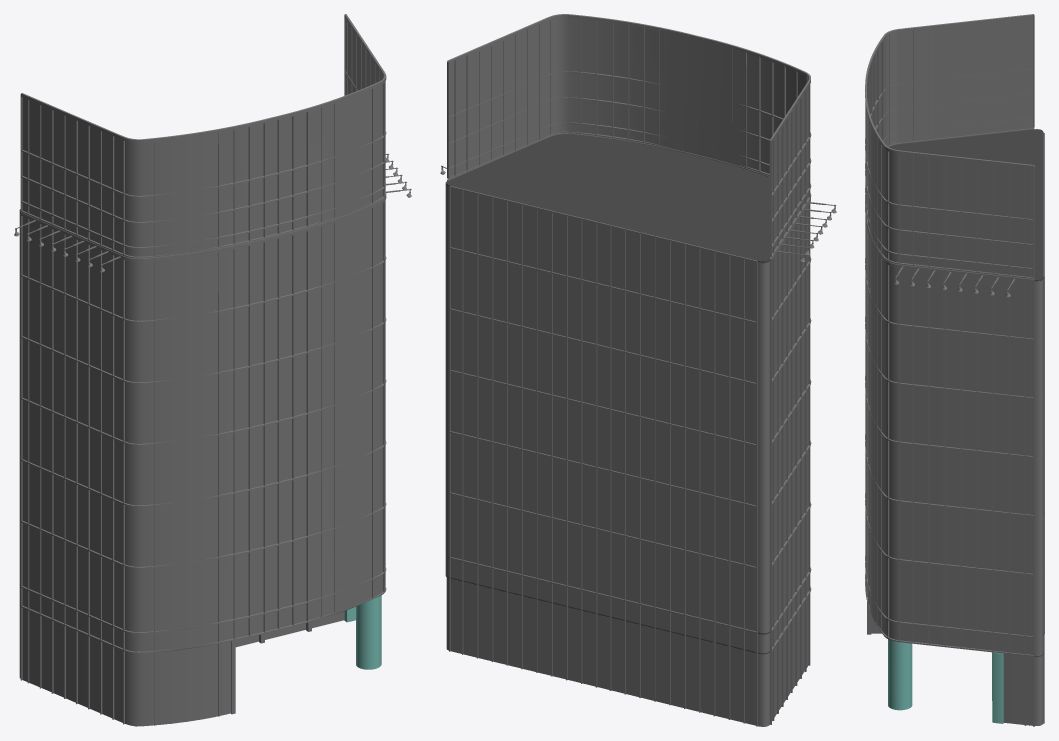
The model's file is SM_building_glass_large_01.fbx.
3 views of the same model, side by side, from view 1: azimuth 30°, elevation 25°; view 2: azimuth 150°, elevation 25°; view 3: azimuth 270°, elevation 25° (orthographic). The views are drawn at different scales.
Visible parts, largest first — view 1: Object1284497; view 2: Object1284497; view 3: Object1284497.
Part boxes in pixels (<box>): Object1284497: <box>14,14,411,726</box>; Object1284497: <box>440,14,836,726</box>; Object1284497: <box>865,14,1044,726</box>.
Bounding box in the file's own units: 895 × 1374 × 399.
